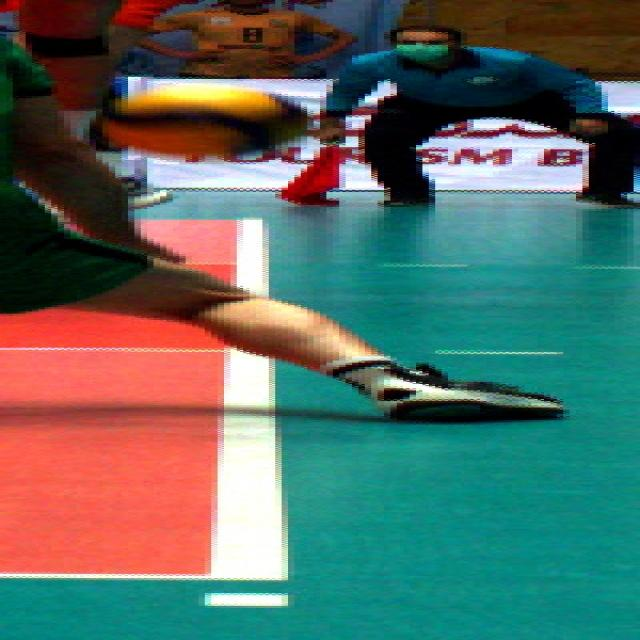Volleyball: (93, 83, 311, 156)
